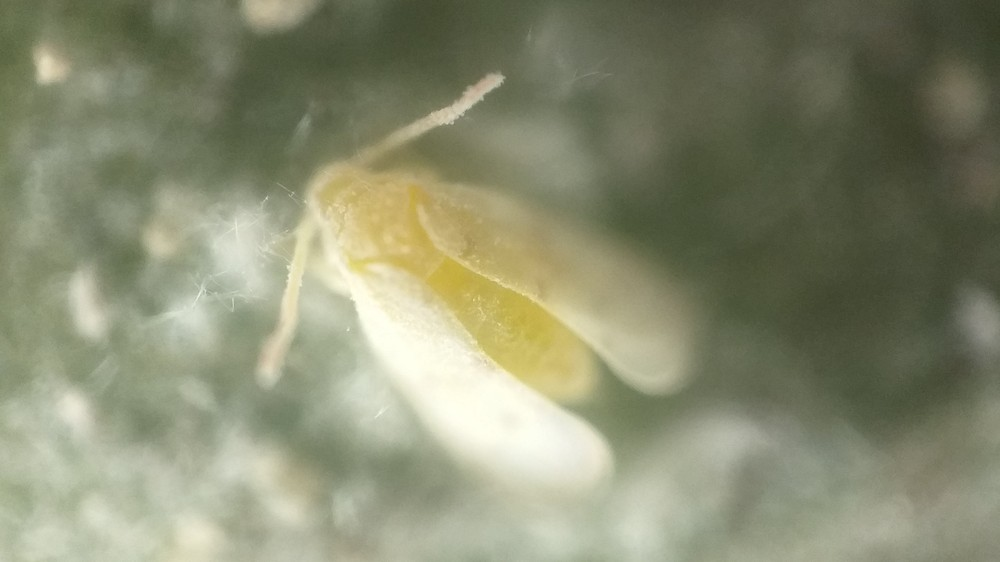Mosca Blanca: (247, 68, 731, 552)
